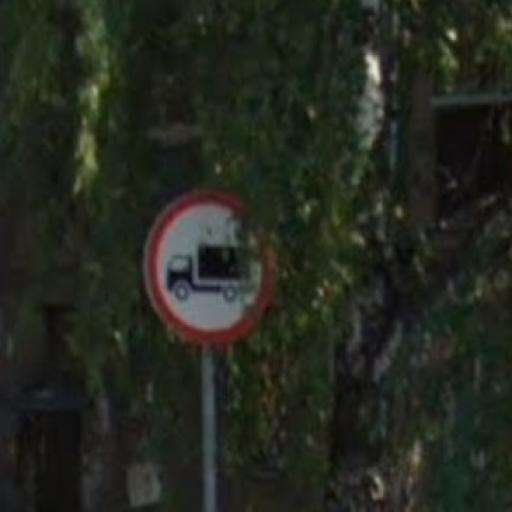traffic_sign: (140, 181, 281, 355)
